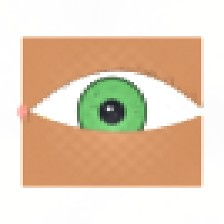pinguecula_lesion: (19, 102, 64, 137)
